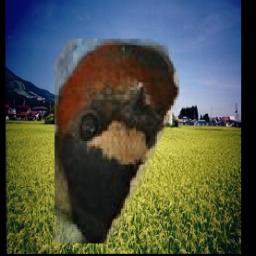Swallow: (54, 39, 178, 243)
